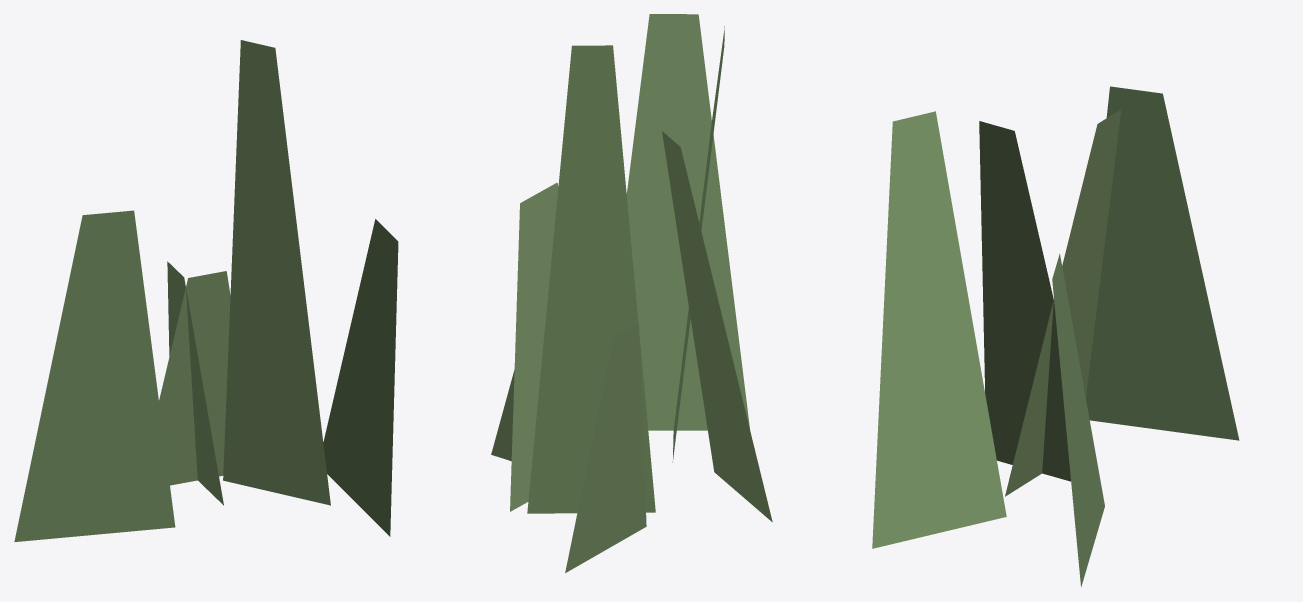
Rendered from cao.jue__spring.glb.
The picture shows the model from 3 angles, left to right: view 1: azimuth 30°, elevation 25°; view 2: azimuth 150°, elevation 25°; view 3: azimuth 270°, elevation 25°; orthographic projection. The views are drawn at different scales.
Visible parts, largest first — view 1: cao.jue__spring; view 2: cao.jue__spring; view 3: cao.jue__spring.
Part boxes in pixels (box(x1,y1,x2,y2)): cao.jue__spring: box(14, 40, 398, 541); cao.jue__spring: box(491, 14, 772, 573); cao.jue__spring: box(872, 86, 1239, 587).
Size of the model in its own units: 0.9659 by 1.14 by 0.8791.
